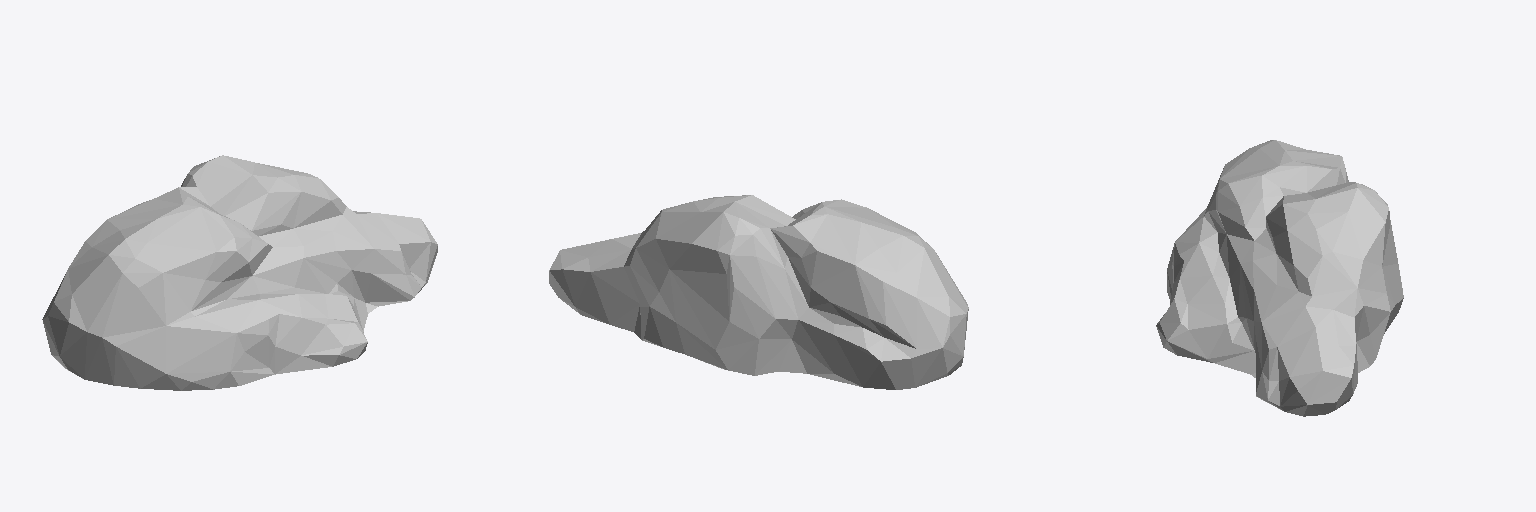
Rendered from Forest_B_Rock_01.obj.
The picture shows the model from 3 angles: view 1: azimuth 30°, elevation 25°; view 2: azimuth 150°, elevation 25°; view 3: azimuth 270°, elevation 25°; orthographic projection.
Visible parts, largest first — view 1: Forest_B_Rock_01; view 2: Forest_B_Rock_01; view 3: Forest_B_Rock_01.
Boxes of the visible parts, box(x1,y1,x2,y2) form: Forest_B_Rock_01: box(42, 155, 437, 390); Forest_B_Rock_01: box(549, 195, 968, 389); Forest_B_Rock_01: box(1156, 140, 1403, 416).
Bounding box in the file's own units: 279 × 96.61 × 153.